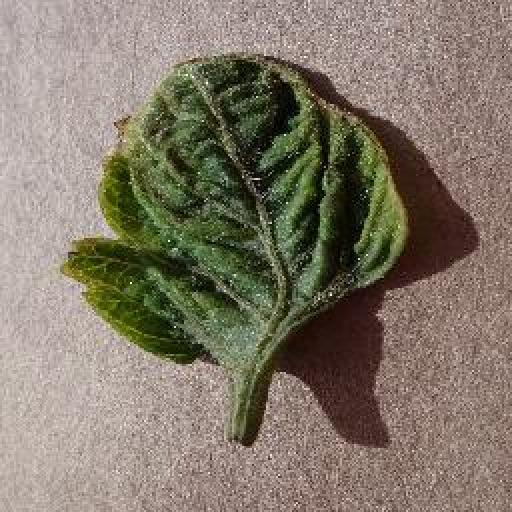Yellow Leaf Curl Virus: (56, 54, 412, 366)
